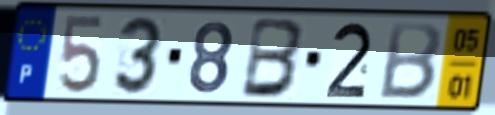2: (325, 20, 374, 101)
3: (112, 13, 164, 97)
5: (55, 12, 107, 96)
8: (188, 19, 236, 95)
B: (238, 15, 308, 101), (375, 20, 444, 102)
